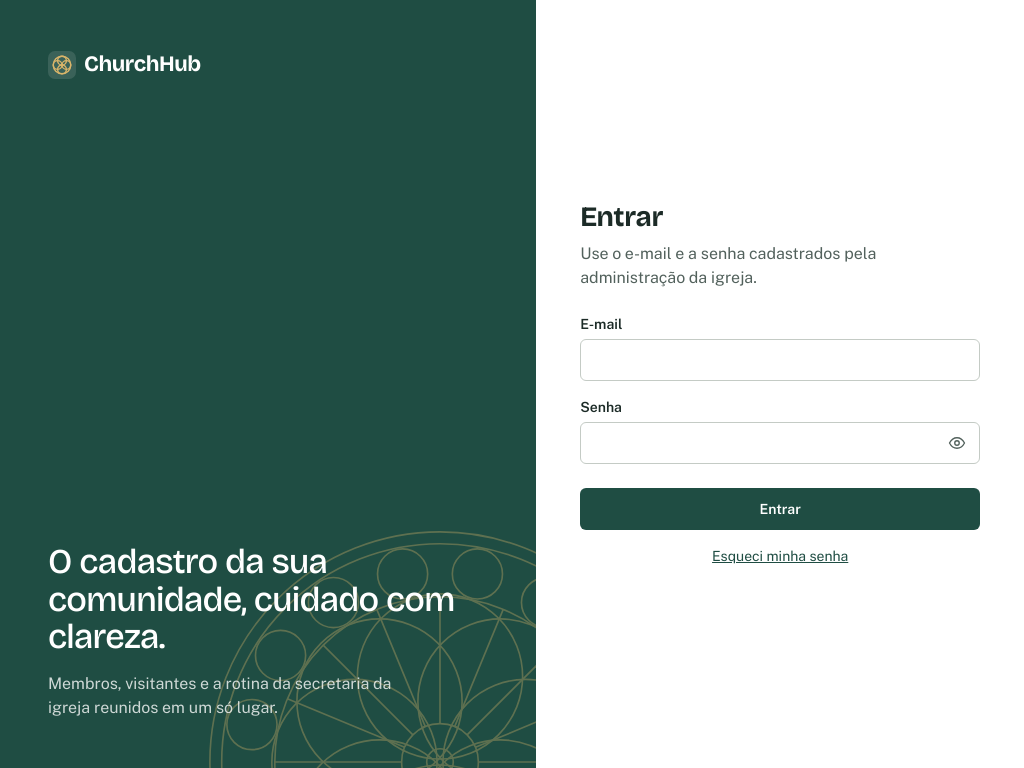
login › com credenciais erradas, mostra a mensagem genérica sem apontar o campo
The width and height of the screenshot is (1024, 768).
Step 1. Type "secretario@churchhub.local" into the field labelled "E-mail" → (780, 360), box [580,339,980,381]
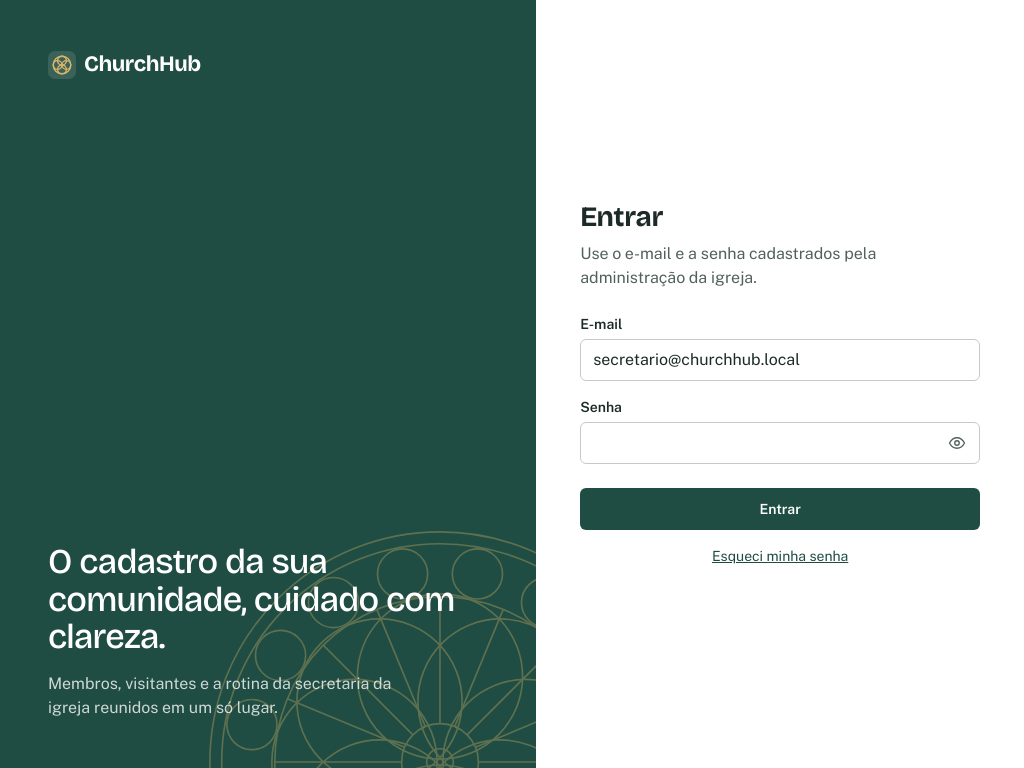
Step 2. Type "errada" into the password field labelled "Senha" → (780, 443), box [580,422,980,464]
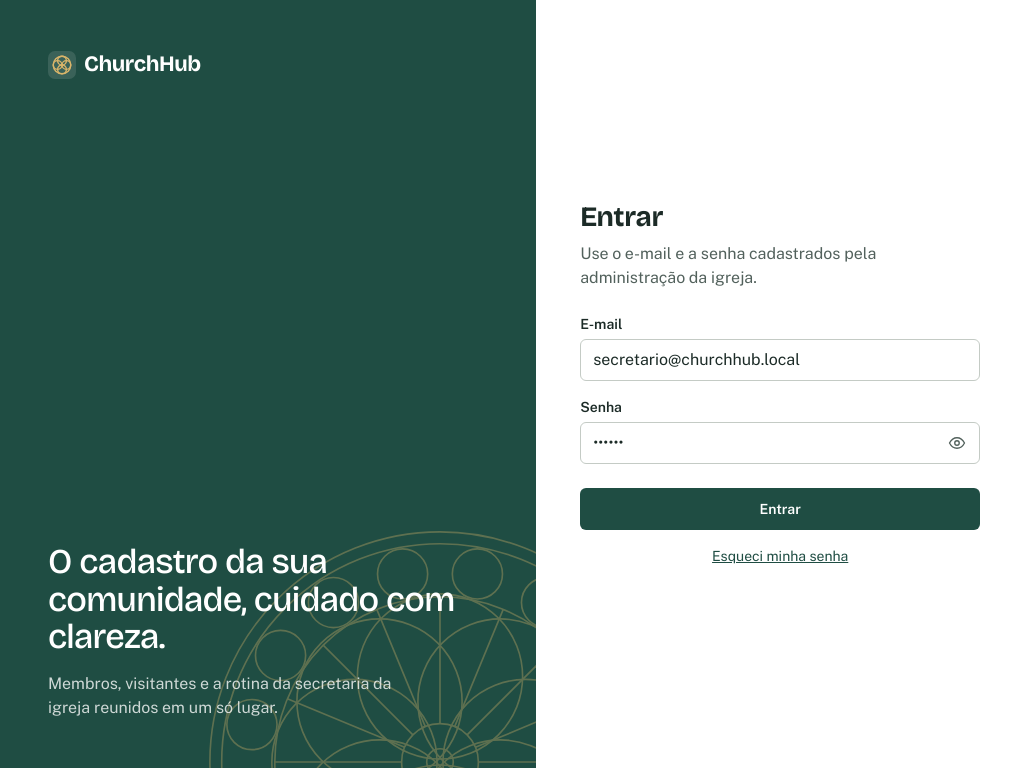
Step 3. Click the button "Entrar" → (780, 509), box [580,488,980,530]
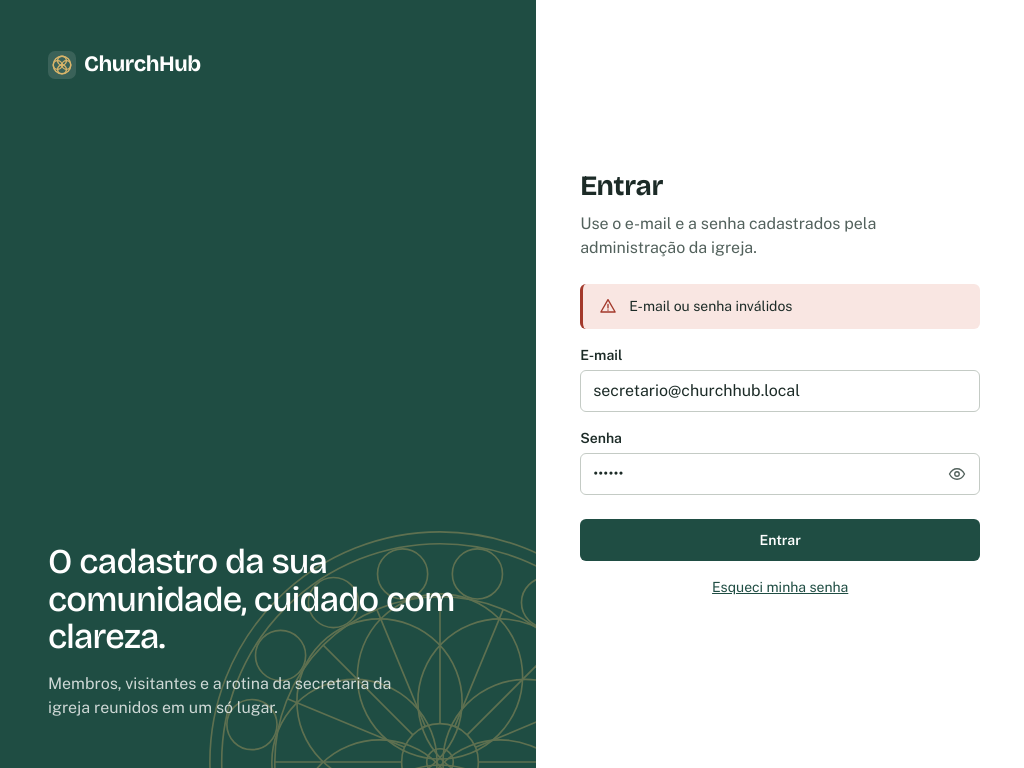
Now the message reads "E-mail ou senha inválidos", box [629,298,792,314]
